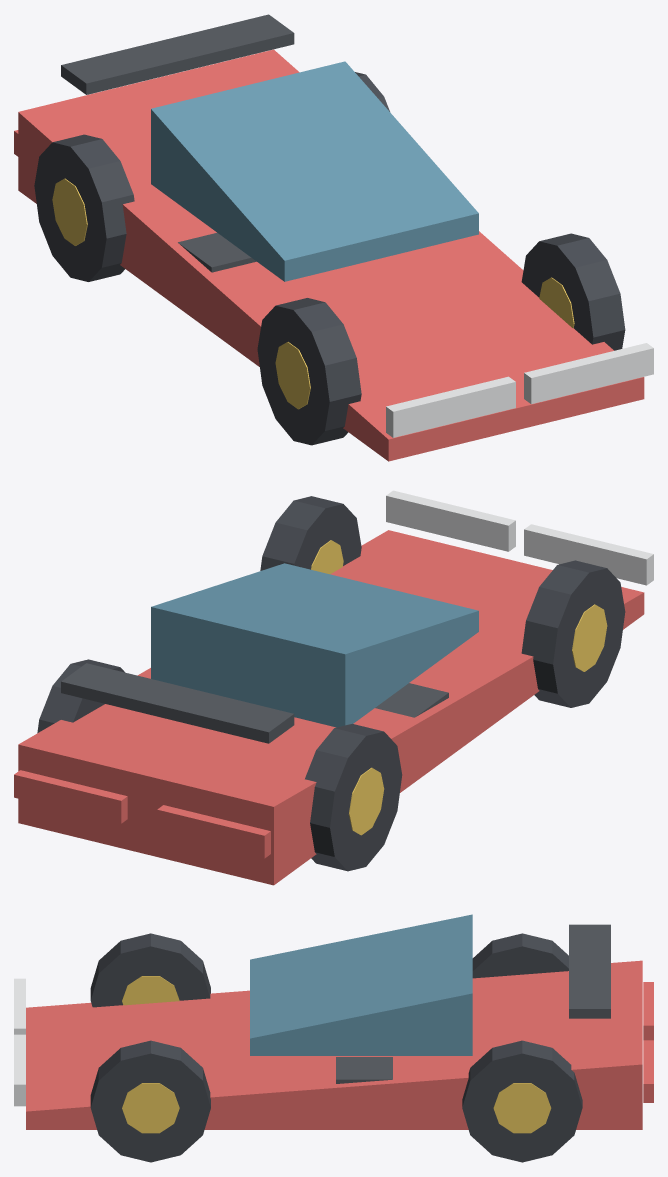
The model's file is player_hypercar_red.glb.
3 views of the same model, one above another, from view 1: azimuth 30°, elevation 25°; view 2: azimuth 150°, elevation 25°; view 3: azimuth 270°, elevation 25° (orthographic). The views are drawn at different scales.
Visible parts, largest first — view 1: hyper_body_0, hyper_canopy_1, wheel_FL_4, wheel_RL_8, active_wing_16, wheel_FR_6, headlight_R_13, headlight_L_12, rim_FL_5, rim_RL_9, side_intake_L_2, rim_FR_7; view 2: hyper_body_0, hyper_canopy_1, wheel_FL_4, wheel_RL_8, active_wing_16, wheel_FR_6, headlight_R_13, headlight_L_12, taillight_R_15, taillight_L_14, wheel_RR_10, rim_RL_9 (+3 smaller); view 3: hyper_body_0, hyper_canopy_1, wheel_FR_6, wheel_RR_10, wheel_FL_4, active_wing_16, wheel_RL_8, rim_FR_7, rim_RR_11, side_intake_R_3, rim_FL_5, headlight_R_13 (+3 smaller).
Part boxes in pixels (bbox=[...]): hyper_body_0: bbox=[18, 49, 644, 461]; hyper_canopy_1: bbox=[151, 61, 478, 281]; wheel_FL_4: bbox=[257, 298, 361, 445]; wheel_RL_8: bbox=[34, 134, 134, 281]; active_wing_16: bbox=[61, 14, 294, 94]; wheel_FR_6: bbox=[521, 233, 625, 350]; headlight_R_13: bbox=[524, 343, 653, 404]; headlight_L_12: bbox=[386, 376, 515, 437]; rim_FL_5: bbox=[275, 342, 310, 409]; rim_RL_9: bbox=[52, 178, 87, 245]; side_intake_L_2: bbox=[178, 232, 256, 272]; rim_FR_7: bbox=[539, 277, 574, 328]; hyper_body_0: bbox=[18, 530, 644, 885]; hyper_canopy_1: bbox=[151, 563, 478, 727]; wheel_FL_4: bbox=[521, 560, 625, 707]; wheel_RL_8: bbox=[305, 723, 402, 871]; active_wing_16: bbox=[61, 663, 294, 743]; wheel_FR_6: bbox=[260, 496, 361, 570]; headlight_R_13: bbox=[386, 490, 515, 551]; headlight_L_12: bbox=[524, 524, 653, 585]; taillight_R_15: bbox=[14, 770, 127, 823]; taillight_L_14: bbox=[157, 805, 270, 858]; wheel_RR_10: bbox=[37, 659, 124, 733]; rim_RL_9: bbox=[349, 767, 384, 835]; hyper_body_0: bbox=[26, 960, 642, 1129]; hyper_canopy_1: bbox=[250, 914, 472, 1055]; wheel_FR_6: bbox=[90, 1040, 210, 1162]; wheel_RR_10: bbox=[462, 1040, 582, 1162]; wheel_FL_4: bbox=[90, 933, 210, 1007]; active_wing_16: bbox=[569, 924, 610, 1018]; wheel_RL_8: bbox=[472, 933, 568, 978]; rim_FR_7: bbox=[122, 1083, 179, 1133]; rim_RR_11: bbox=[493, 1083, 551, 1133]; side_intake_R_3: bbox=[336, 1057, 392, 1083]; rim_FL_5: bbox=[122, 976, 179, 1005]; headlight_R_13: bbox=[14, 1034, 25, 1106].
Size of the model in its own units: 1.9 by 1.09 by 4.26.
